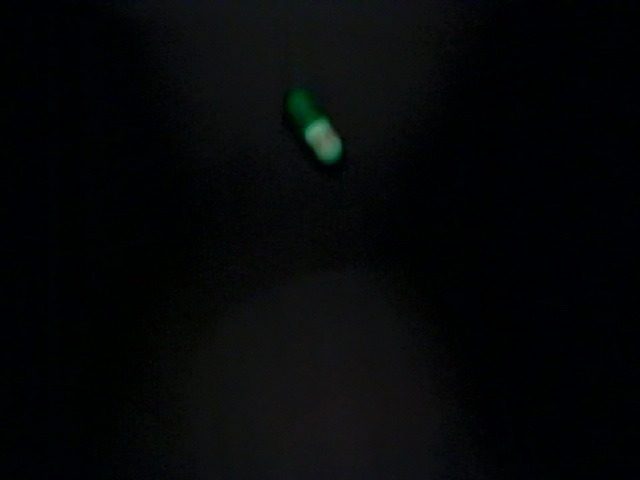YHLJ: (232, 347, 475, 442)
